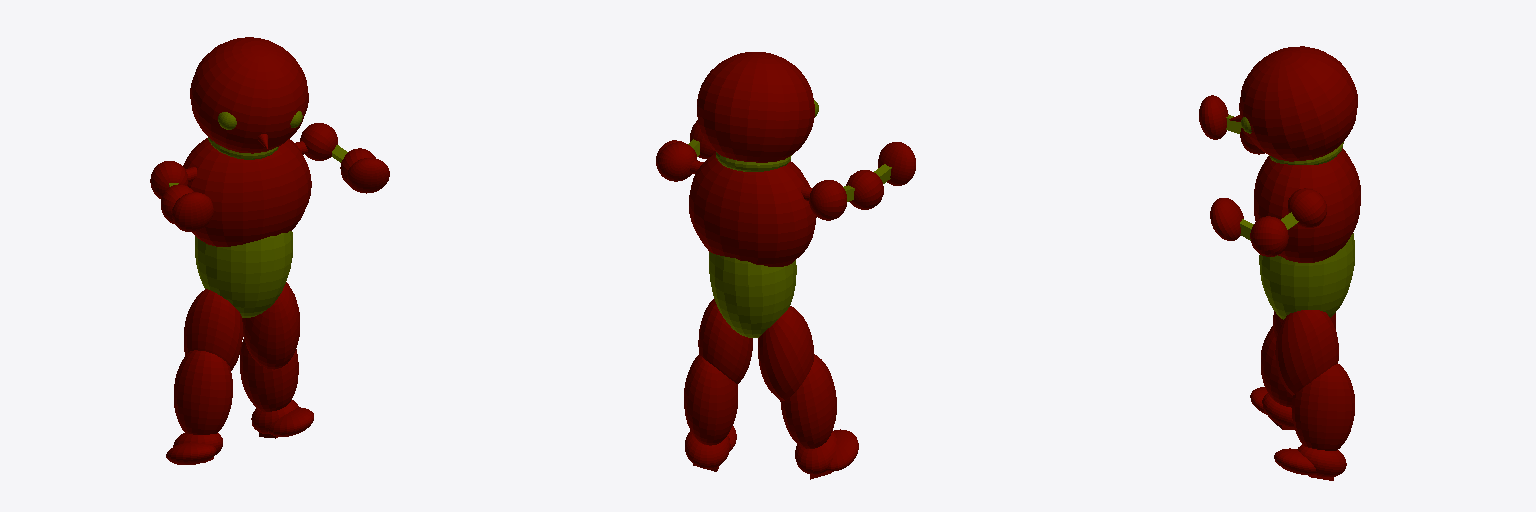
Rendered from robot.obj.
3 views of the same model, side by side, from view 1: azimuth 30°, elevation 25°; view 2: azimuth 150°, elevation 25°; view 3: azimuth 270°, elevation 25° (orthographic).
Visible parts, largest first — view 1: pSphere27 pTorus3 pSphere1, pSphere27, pSphere27 pSphere26, pSphere27 pSphere26 pSphere25 pasted__pSphere24, pSphere27 pSphere26 pSphere25, pSphere27 pSphere26 pSphere24, pSphere27 pSphere26 pSphere24 pasted__pSphere24, pSphere27 pSphere26 pSphere24 pasted__pSphere24 pasted__pasted__, pSphere27 pSphere26 pSphere25 pasted__pSphere24 pasted__pasted__, pSphere27 pCylinder18 pSphere5 pCube19 pSphere7 pCube27 pSphere8, pSphere27 pCylinder22 pSphere5 pCube19 pSphere7 pCube27 pSphere8, pSphere27 pCylinder22 pSphere5 (+2 smaller); view 2: pSphere27, pSphere27 pTorus3 pSphere1, pSphere27 pSphere26, pSphere27 pSphere26 pSphere25, pSphere27 pSphere26 pSphere24 pasted__pSphere24, pSphere27 pSphere26 pSphere25 pasted__pSphere24, pSphere27 pSphere26 pSphere24, pSphere27 pSphere26 pSphere25 pasted__pSphere24 pasted__pasted__, pSphere27 pCylinder18 pSphere5, pSphere27 pSphere26 pSphere24 pasted__pSphere24 pasted__pasted__, pSphere27 pCylinder18 pSphere5 pCube19 pSphere7 pCube27 pSphere8, pSphere27 pCylinder22 pSphere5 (+2 smaller); view 3: pSphere27 pTorus3 pSphere1, pSphere27, pSphere27 pSphere26, pSphere27 pSphere26 pSphere24 pasted__pSphere24, pSphere27 pSphere26 pSphere24, pSphere27 pSphere26 pSphere24 pasted__pSphere24 pasted__pasted__, pSphere27 pCylinder22 pSphere5 pCube19 pSphere7, pSphere27 pCylinder22 pSphere5, pSphere27 pSphere26 pSphere25 pasted__pSphere24, pSphere27 pCylinder22 pSphere5 pCube19 pSphere7 pCube27 pSphere8, pSphere27 pCylinder18 pSphere5 pCube19 pSphere7 pCube27 pSphere8, pSphere27 pSphere26 pSphere25 pasted__pSphere24 pasted__pasted__.
Boxes of the visible parts, box(x1,y1,x2,y2) form: pSphere27 pTorus3 pSphere1: box(190, 37, 308, 153); pSphere27: box(183, 138, 311, 246); pSphere27 pSphere26: box(195, 231, 292, 317); pSphere27 pSphere26 pSphere25 pasted__pSphere24: box(174, 350, 232, 434); pSphere27 pSphere26 pSphere25: box(184, 289, 242, 370); pSphere27 pSphere26 pSphere24: box(242, 282, 299, 369); pSphere27 pSphere26 pSphere24 pasted__pSphere24: box(240, 339, 298, 411); pSphere27 pSphere26 pSphere24 pasted__pSphere24 pasted__pasted__: box(251, 400, 313, 438); pSphere27 pSphere26 pSphere25 pasted__pSphere24 pasted__pasted__: box(166, 433, 222, 464); pSphere27 pCylinder18 pSphere5 pCube19 pSphere7 pCube27 pSphere8: box(172, 192, 213, 231); pSphere27 pCylinder22 pSphere5 pCube19 pSphere7 pCube27 pSphere8: box(347, 158, 389, 193); pSphere27 pCylinder22 pSphere5: box(300, 123, 337, 160); pSphere27: box(689, 153, 816, 266); pSphere27 pTorus3 pSphere1: box(697, 52, 814, 162); pSphere27 pSphere26: box(709, 252, 796, 337); pSphere27 pSphere26 pSphere25: box(758, 306, 813, 400); pSphere27 pSphere26 pSphere24 pasted__pSphere24: box(684, 354, 737, 445); pSphere27 pSphere26 pSphere25 pasted__pSphere24: box(780, 354, 836, 448); pSphere27 pSphere26 pSphere24: box(698, 299, 752, 383); pSphere27 pSphere26 pSphere25 pasted__pSphere24 pasted__pasted__: box(795, 429, 858, 479); pSphere27 pCylinder18 pSphere5: box(809, 180, 846, 220); pSphere27 pSphere26 pSphere24 pasted__pSphere24 pasted__pasted__: box(685, 426, 736, 471); pSphere27 pCylinder18 pSphere5 pCube19 pSphere7 pCube27 pSphere8: box(878, 142, 915, 185); pSphere27 pCylinder22 pSphere5: box(657, 142, 697, 181); pSphere27 pTorus3 pSphere1: box(1239, 46, 1357, 161); pSphere27: box(1254, 148, 1360, 262); pSphere27 pSphere26: box(1259, 233, 1354, 319); pSphere27 pSphere26 pSphere24 pasted__pSphere24: box(1292, 364, 1354, 450); pSphere27 pSphere26 pSphere24: box(1275, 310, 1338, 395); pSphere27 pSphere26 pSphere24 pasted__pSphere24 pasted__pasted__: box(1274, 445, 1346, 480); pSphere27 pCylinder22 pSphere5 pCube19 pSphere7: box(1250, 216, 1288, 256); pSphere27 pCylinder22 pSphere5: box(1288, 188, 1326, 227); pSphere27 pSphere26 pSphere25 pasted__pSphere24: box(1261, 326, 1292, 407); pSphere27 pCylinder22 pSphere5 pCube19 pSphere7 pCube27 pSphere8: box(1210, 198, 1243, 240); pSphere27 pCylinder18 pSphere5 pCube19 pSphere7 pCube27 pSphere8: box(1199, 95, 1228, 139); pSphere27 pSphere26 pSphere25 pasted__pSphere24 pasted__pasted__: box(1250, 387, 1294, 429).
Size of the model in its own units: 3.88 by 6.63 by 2.38.